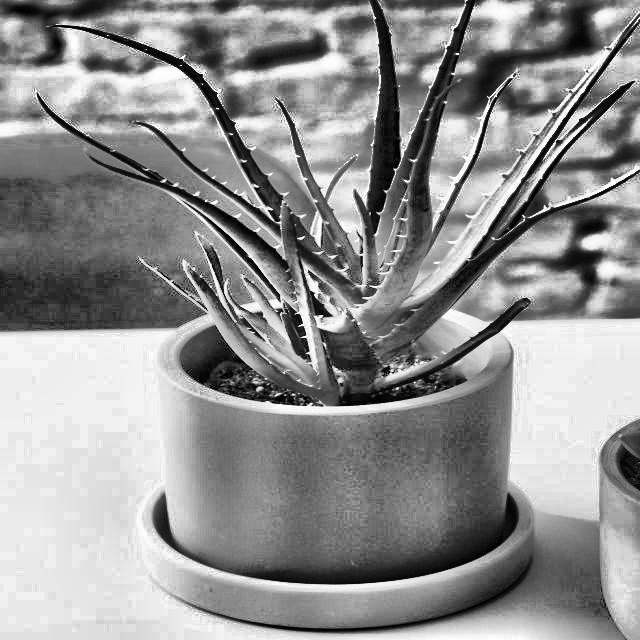plants: (62, 18, 578, 568)
